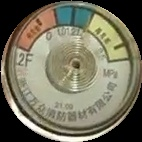green: (55, 6, 95, 29)
red: (14, 8, 58, 50)
yellow: (89, 13, 132, 61)
